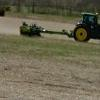Tractor: (59, 7, 100, 50)
